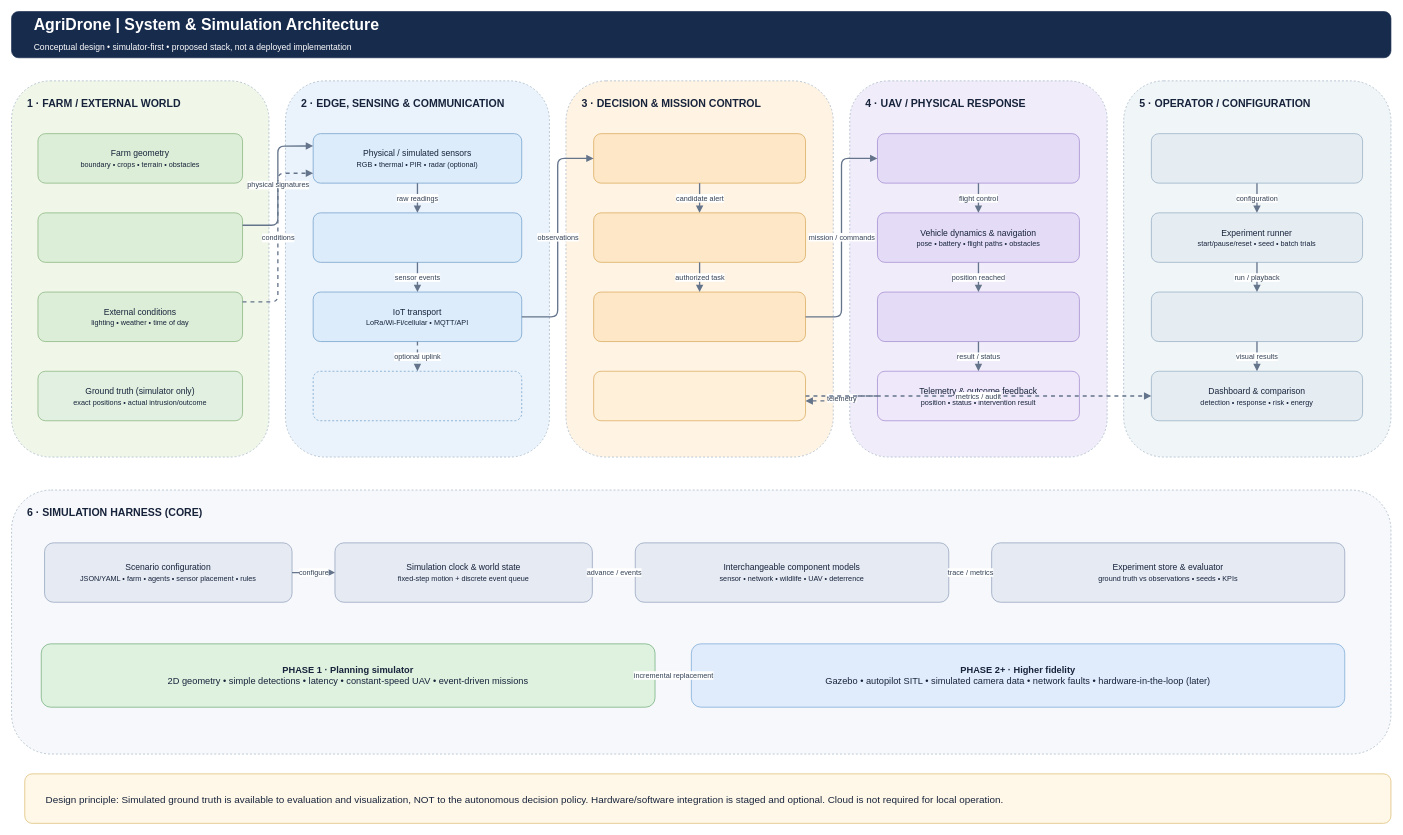
This 1403x835 diagram has some shape labels left out. The centre of each missing label's shape, as x and y in pixels:
"Edge node / sensor gateway filtering • detection • timestamps • health" belongs at [417,237].
"Event intake & sensor fusion observations • confidence • uncertainty" belongs at [699,158].
"Events, audit & performance alerts • latency • coverage • safety" belongs at [699,396].
"Humane deterrence subsystem audio or other approved non-harmful method" belongs at [978,316].
"Map / timeline / 3D viewer positions • coverage • UAV playback" belongs at [1257,316].
"Mission orchestrator dispatch • geofence • route • abort" belongs at [699,316].
"Optional cloud layer storage • monitoring • remote access" belongs at [417,396].
"Threat assessment / safety policy classify • validate • human approval rules" belongs at [699,237].
"UAV autopilot / control simplified model → ArduPilot/PX4 SITL" belongs at [978,158].
"Visual scenario editor drag sensors • define events • configure UAVs" belongs at [1257,158].
"Wildlife agents species • trajectories • behavior" belongs at [140,237].
